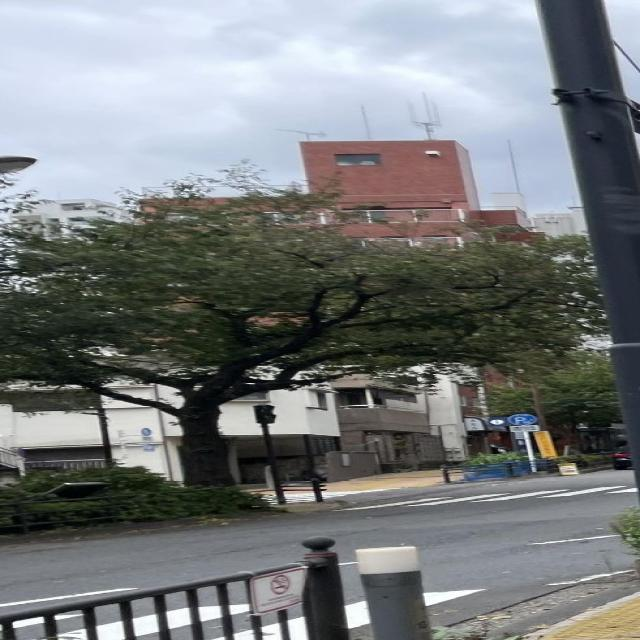sakura: (0, 157, 612, 490)
